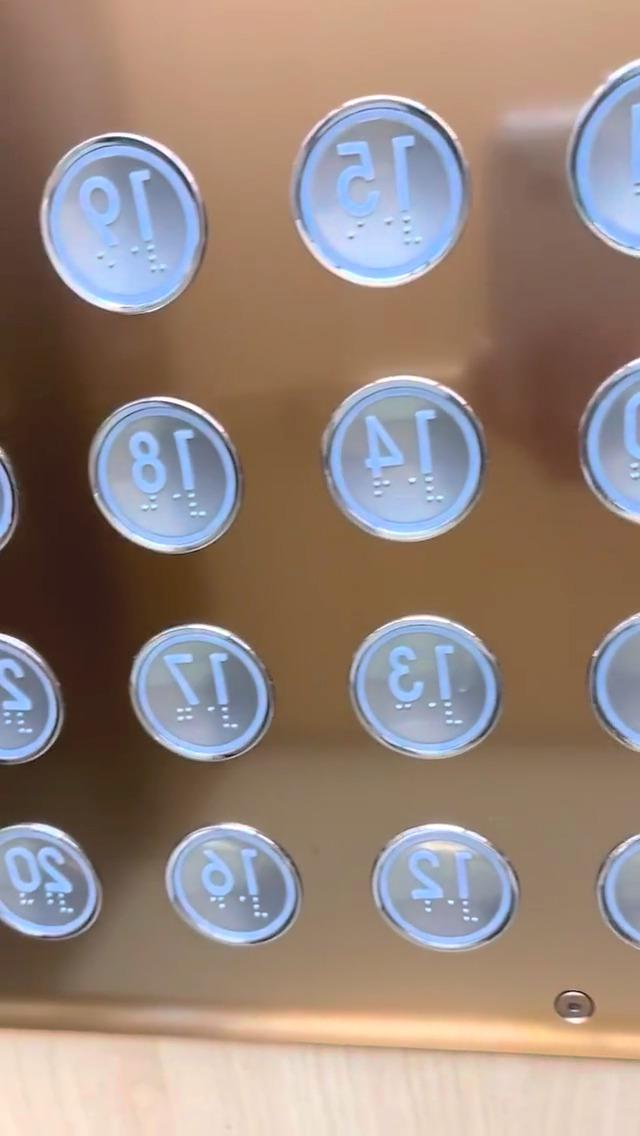button: (287, 87, 464, 296), (44, 134, 216, 326), (314, 376, 481, 551), (121, 623, 260, 770), (100, 394, 224, 556), (354, 620, 486, 767), (370, 823, 507, 964), (154, 826, 297, 957), (0, 829, 97, 959)
